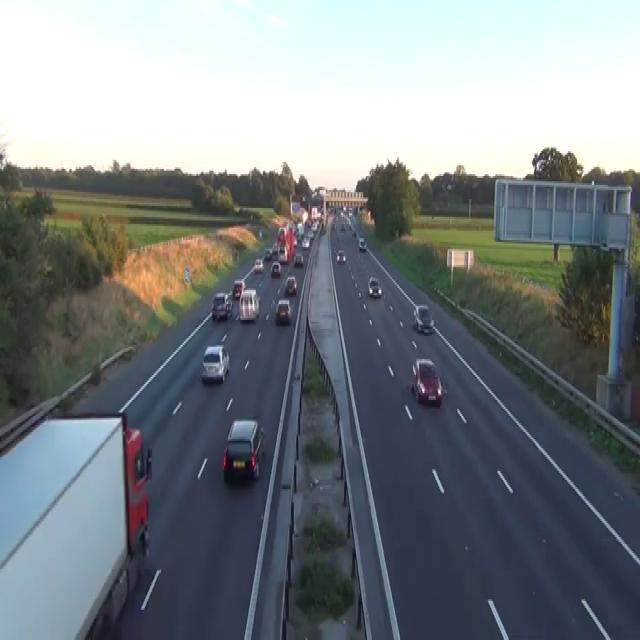Car: (222, 418, 265, 480), (410, 358, 442, 406), (200, 345, 229, 382), (238, 288, 259, 322), (210, 292, 232, 320), (413, 304, 434, 332), (275, 298, 292, 324), (367, 275, 381, 297), (284, 276, 297, 295), (233, 279, 245, 299), (278, 245, 288, 263), (270, 262, 281, 278), (336, 249, 346, 263), (253, 258, 263, 272), (294, 252, 303, 266), (358, 237, 366, 250), (301, 236, 309, 249), (264, 247, 272, 260), (271, 242, 277, 256), (307, 229, 314, 240), (305, 218, 311, 226), (340, 222, 345, 231), (321, 224, 326, 233), (347, 222, 352, 230), (293, 237, 297, 246), (331, 222, 335, 230), (352, 230, 356, 237), (259, 230, 262, 237)
Truck: (0, 409, 152, 638), (276, 222, 295, 263)
